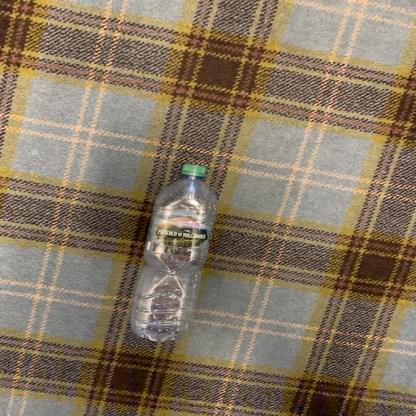trash: (129, 163, 218, 344)
